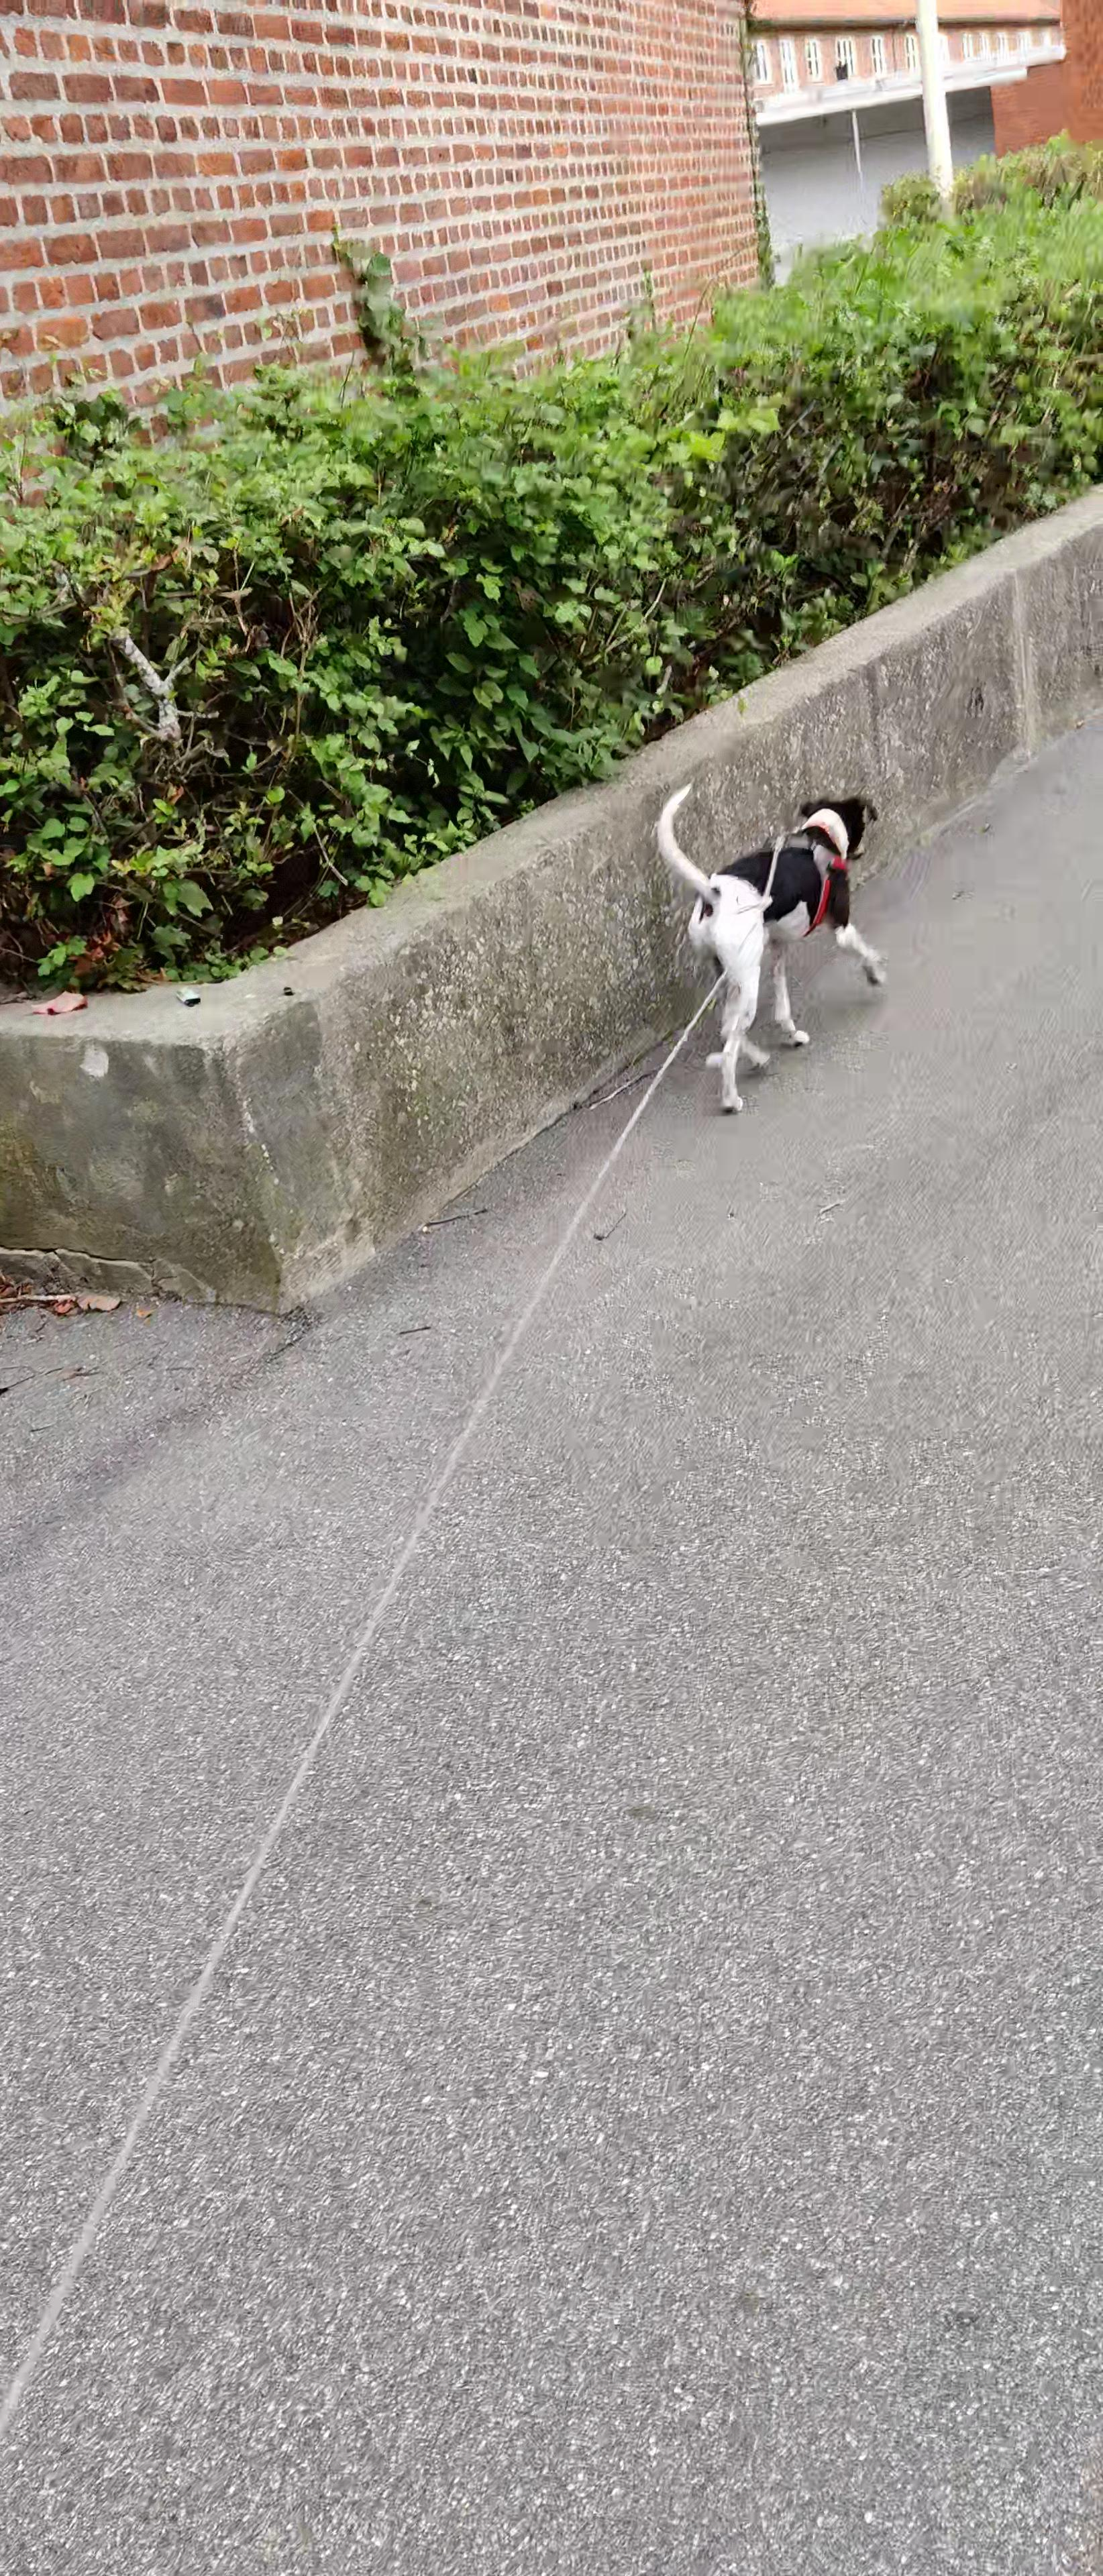Dog: (648, 770, 894, 1125)
